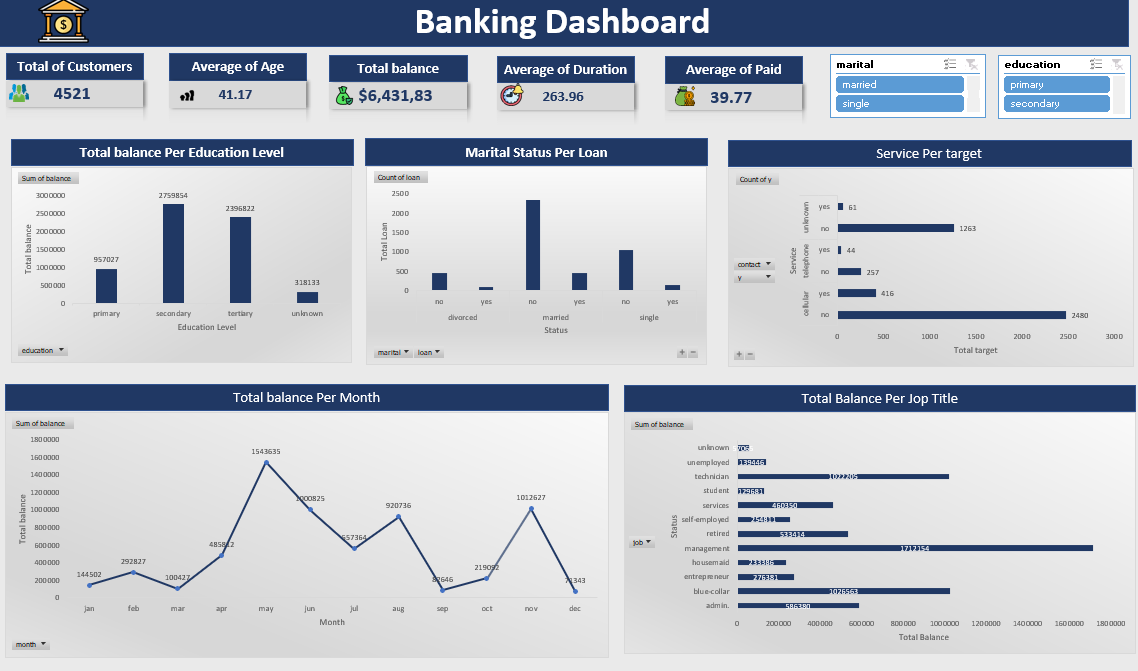

This screenshot's page, from the dashboard's own definition file:
{"tool":"powerbi","page":{"name":"Page 1","canvas":[1180,740],"ordinal":0},"visuals":[{"type":"shape","title":"wd","box":[0,0,1280.3,70.9],"z":0},{"type":"cardVisual","title":"Total Customers","fields":{"Data":["CountNonNull(bank-direct-marketing-campaigns - bank-direct-marketing-campaigns.campaign)"]},"box":[0,79.9,215.8,128.7],"z":1000},{"type":"cardVisual","title":"Avg Age","fields":{"Data":["Avg(bank-direct-marketing-campaigns - bank-direct-marketing-campaigns.age)"]},"box":[227.5,79.8,216.9,129.1],"z":2000},{"type":"cardVisual","title":"Total Campaign","fields":{"Data":["Count(bank-direct-marketing-campaigns - bank-direct-marketing-campaigns.campaign)"]},"box":[479.6,79.9,216,129],"z":3000},{"type":"cardVisual","title":"AVG Balance","fields":{"Data":["Avg(bank-direct-marketing-campaigns - bank-direct-marketing-campaigns.previous)"]},"box":[732,79.9,216,129],"z":4000},{"type":"slicer","fields":{"Values":["bank-direct-marketing-campaigns - bank-direct-marketing-campaigns.marital"]},"box":[0,218.2,208.9,223.5],"z":5000},{"type":"slicer","fields":{"Values":["bank-direct-marketing-campaigns - bank-direct-marketing-campaigns.education"]},"box":[971.4,89.2,208.9,89.2],"z":6000},{"type":"clusteredBarChart","title":"Total Balance per Eduacetion Level","fields":{"Category":["bank-direct-marketing-campaigns - bank-direct-marketing-campaigns.education"],"Y":["Sum(bank-direct-marketing-campaigns - bank-direct-marketing-campaigns.previous)"]},"box":[227.5,218.2,467.1,252.8],"z":7000},{"type":"clusteredColumnChart","title":"Marital_Status by Loan","fields":{"Category":["bank-direct-marketing-campaigns - bank-direct-marketing-campaigns.marital"],"Y":["Sum(bank-direct-marketing-campaigns - bank-direct-marketing-campaigns.previous)"],"Series":["bank-direct-marketing-campaigns - bank-direct-marketing-campaigns.loan"]},"box":[850.3,487,330,252.8],"z":8000},{"type":"clusteredBarChart","title":"Service Per Target","fields":{"Y":["CountNonNull(bank-direct-marketing-campaigns - bank-direct-marketing-campaigns.y)"],"Category":["bank-direct-marketing-campaigns - bank-direct-marketing-campaigns.contact"],"Series":["bank-direct-marketing-campaigns - bank-direct-marketing-campaigns.y"]},"box":[0,487,365.9,252.8],"z":9000},{"type":"lineChart","title":"Total Balance per Eduacetion Level","fields":{"Category":["bank-direct-marketing-campaigns - bank-direct-marketing-campaigns.month"],"Y":["Sum(bank-direct-marketing-campaigns - bank-direct-marketing-campaigns.previous)"]},"box":[376.6,487,463.1,252.8],"z":9001},{"type":"clusteredBarChart","title":"Total Balance per Job_Title","fields":{"Y":["Sum(bank-direct-marketing-campaigns - bank-direct-marketing-campaigns.previous)"],"Category":["bank-direct-marketing-campaigns - bank-direct-marketing-campaigns.job"]},"box":[713.2,218.2,467.1,252.8],"z":9002}]}

Visuals, with their boxes on the page's 1180x740 design canvas (x1, y1, x2, y2). These are canvas units, not pixel positions in the 1138x671 screenshot, which may show the page scaled, cropped or inside an application window:
"wd" shape: box=[0, 0, 1280, 71]
"Total Customers" cardVisual: box=[0, 80, 216, 209]
"Avg Age" cardVisual: box=[228, 80, 444, 209]
"Total Campaign" cardVisual: box=[480, 80, 696, 209]
"AVG Balance" cardVisual: box=[732, 80, 948, 209]
slicer - bank-direct-marketing-campaigns - bank-direct-marketing-campaigns.marital: box=[0, 218, 209, 442]
slicer - bank-direct-marketing-campaigns - bank-direct-marketing-campaigns.education: box=[971, 89, 1180, 178]
"Total Balance per Eduacetion Level" clusteredBarChart: box=[228, 218, 695, 471]
"Marital_Status by Loan" clusteredColumnChart: box=[850, 487, 1180, 740]
"Service Per Target" clusteredBarChart: box=[0, 487, 366, 740]
"Total Balance per Eduacetion Level" lineChart: box=[377, 487, 840, 740]
"Total Balance per Job_Title" clusteredBarChart: box=[713, 218, 1180, 471]
